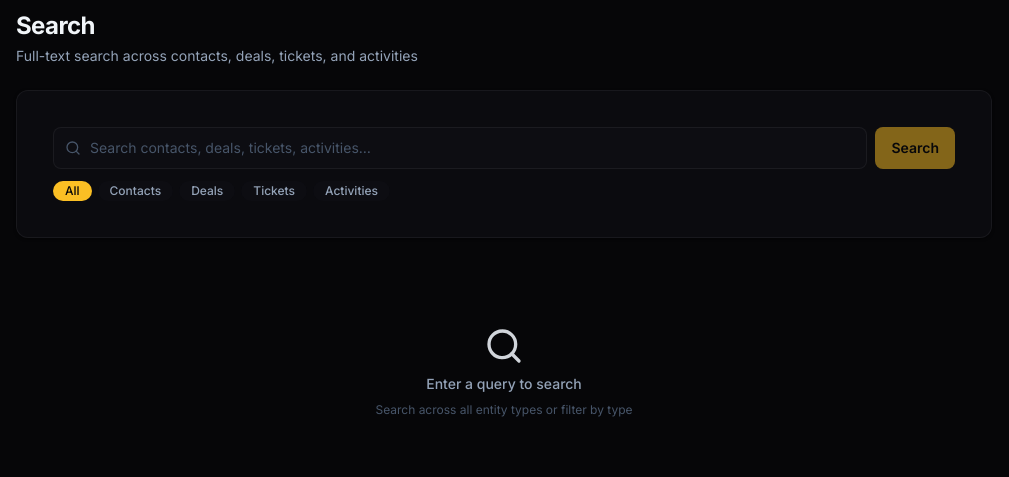
Test: Search page › shows results after submitting query
Type "alice" into the search field. click: (460, 148)
box: [53,127,868,169]
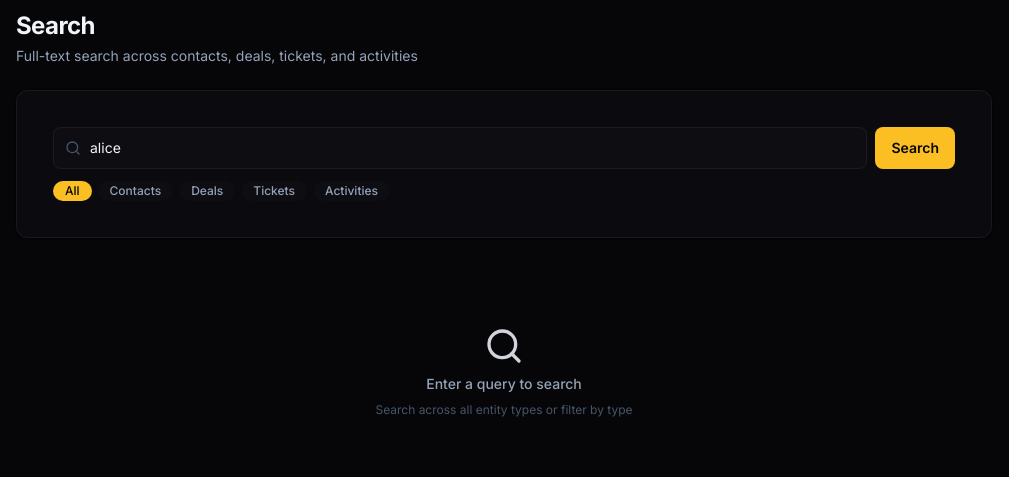
Click the button "Search". click: (915, 148)
box: [876,127,955,169]
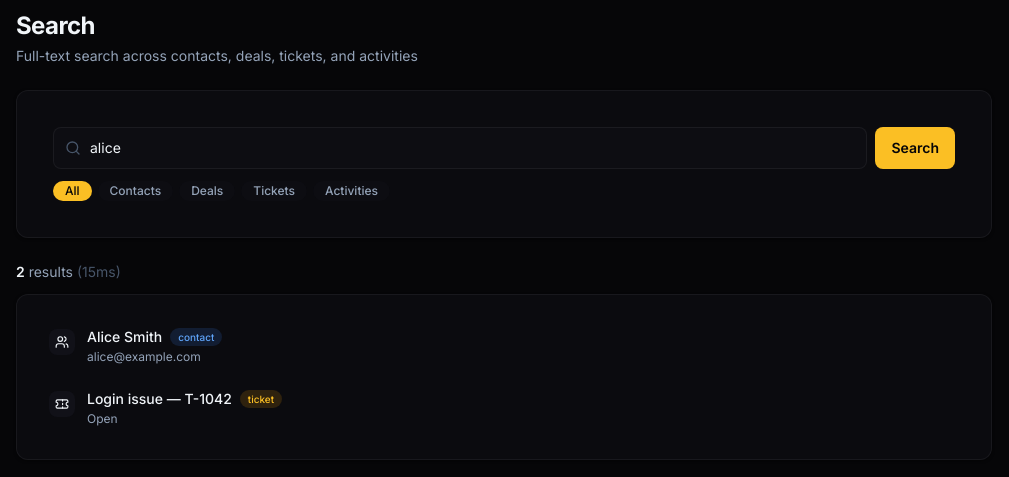
Result: the text "Alice Smith" is shown at [87,327,162,347]
Result: the text "Login issue — T-1042" is shown at [87,389,232,409]
